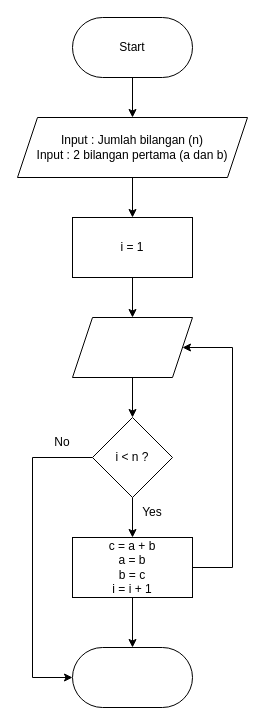
Image size: 265x725. Some labels were removed from this diagram. Here are the shapes that lost their labels. From the top down, the centre of each, then its label:
At point 132,347: "Output a".
At point 132,677: "End".
